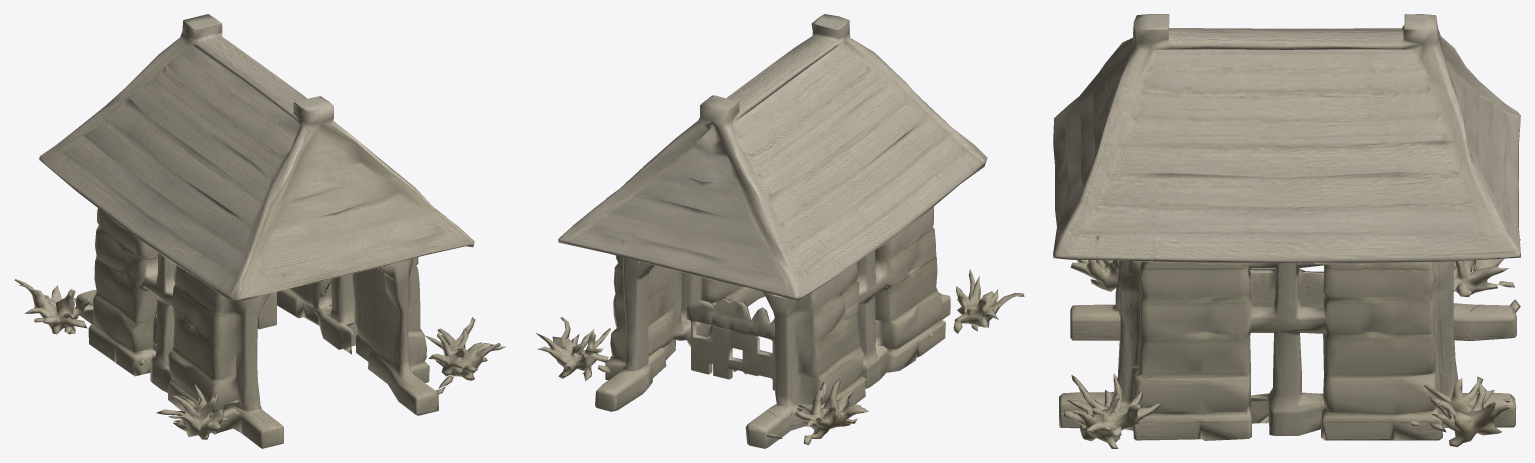
File: lychgate.glb
3 views of the same model, side by side, from view 1: azimuth 30°, elevation 25°; view 2: azimuth 150°, elevation 25°; view 3: azimuth 270°, elevation 25° (orthographic). The views are drawn at different scales.
Size of the model in its own units: 1.88 by 1.6 by 1.91.
1 material, 1 textured.
